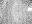person: (25, 7, 31, 11)
